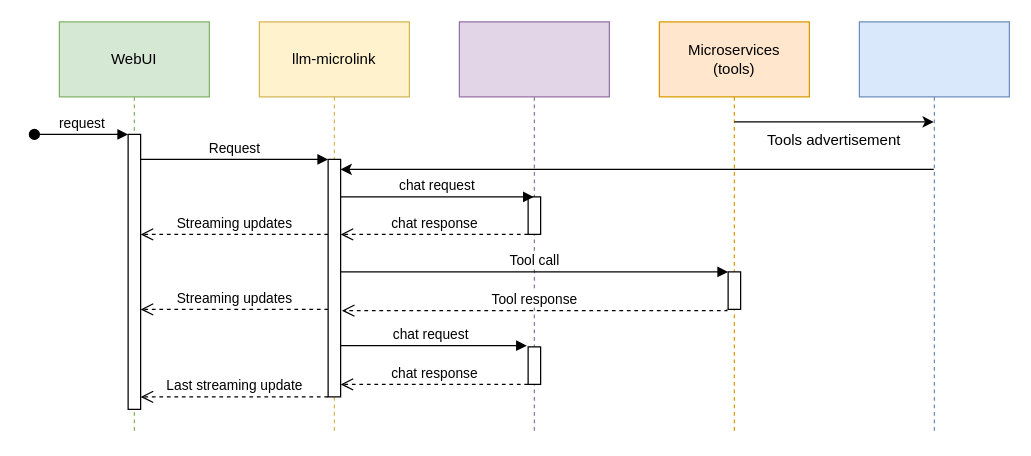
This 1031x456 diagram has some shape labels left out. The box of each missing label's shape, as (x1, y1, x2, y2) in pixels:
Apache Zookeeper: (858, 21, 1009, 434)
LLM: (458, 21, 609, 434)
